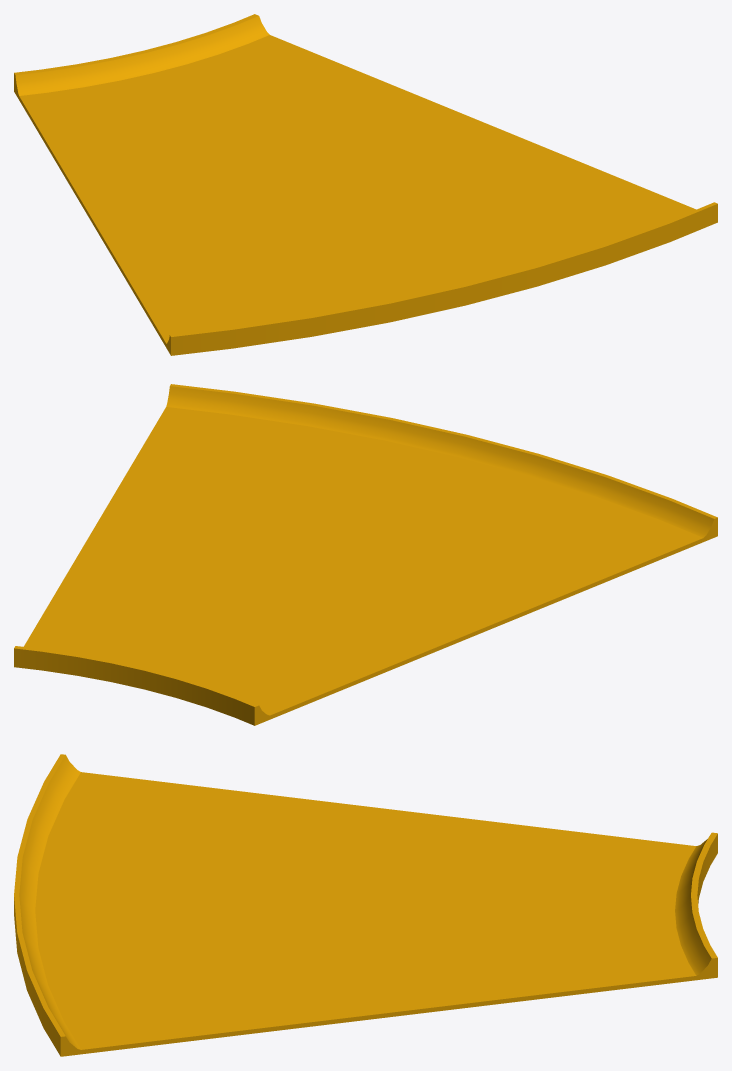
Rendered from 14mTrack_Blockout_IregularSmallAngle1.fbx.
The picture shows the model from 3 angles, top to bottom: view 1: azimuth 30°, elevation 25°; view 2: azimuth 150°, elevation 25°; view 3: azimuth 270°, elevation 25°; orthographic projection. The views are drawn at different scales.
Visible parts, largest first — view 1: pCube46; view 2: pCube46; view 3: pCube46.
Part boxes in pixels (x1,y1,x2,y2): pCube46: [14, 14, 717, 355]; pCube46: [14, 384, 717, 725]; pCube46: [14, 754, 717, 1056].
Bounding box in the file's own units: 1371 × 45 × 1442.
